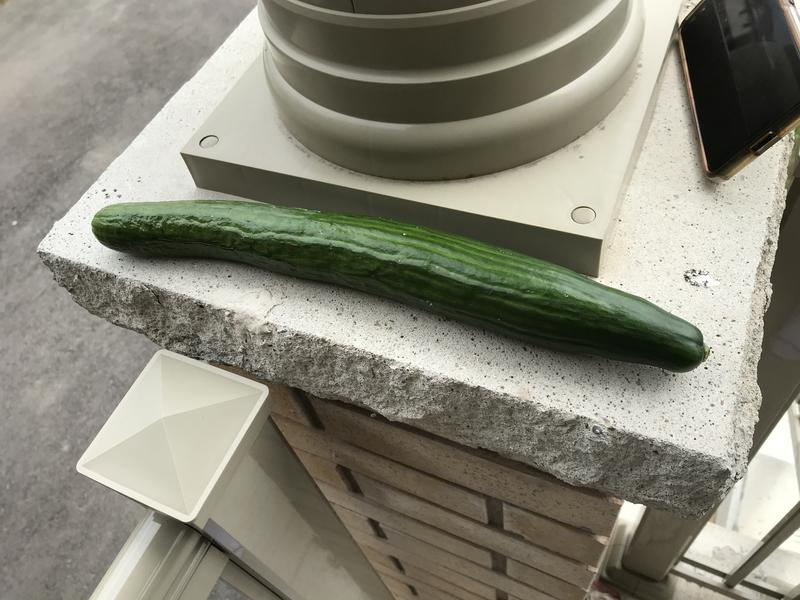cucumber: (75, 188, 731, 392)
